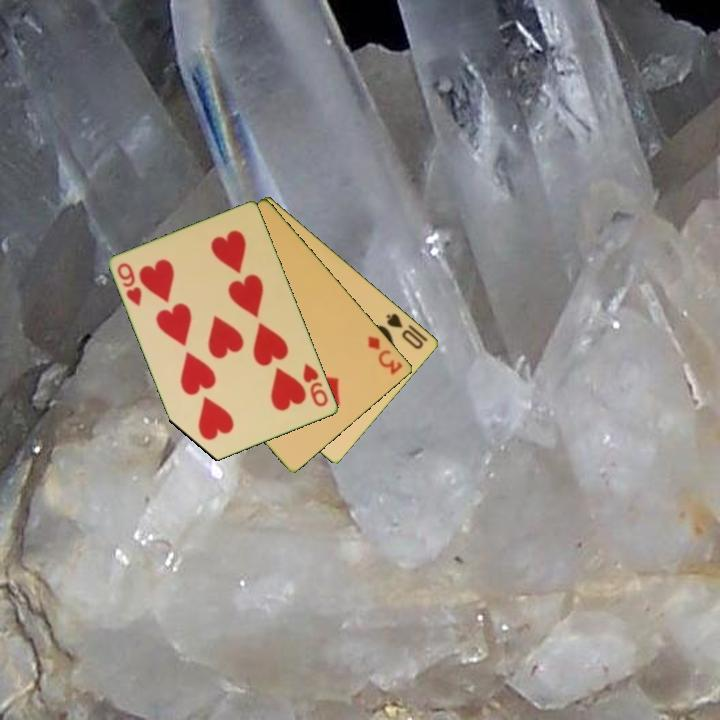10s: (383, 310, 427, 352)
3d: (364, 332, 406, 378)
9h: (114, 259, 145, 310), (300, 360, 331, 410)
